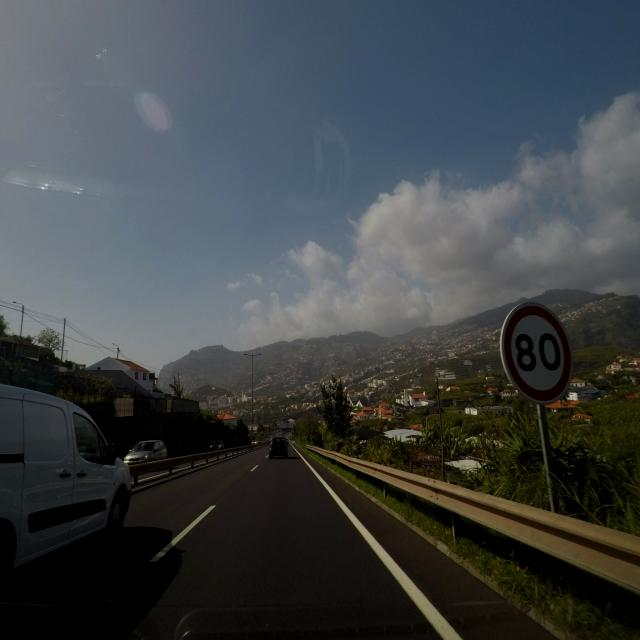car: (0, 378, 132, 596), (123, 439, 168, 466), (381, 428, 424, 444), (268, 436, 289, 459), (210, 439, 226, 452), (464, 406, 478, 414)
